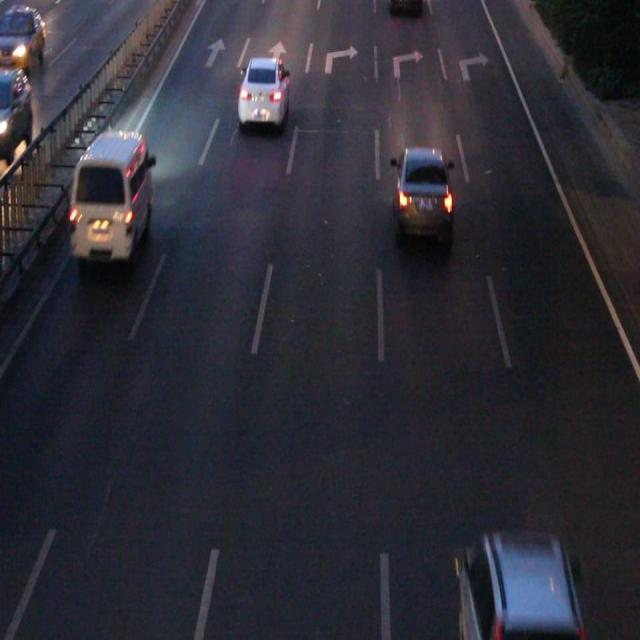car: (455, 535, 579, 640), (392, 148, 450, 234), (240, 59, 288, 125)
truck: (72, 132, 150, 260)
